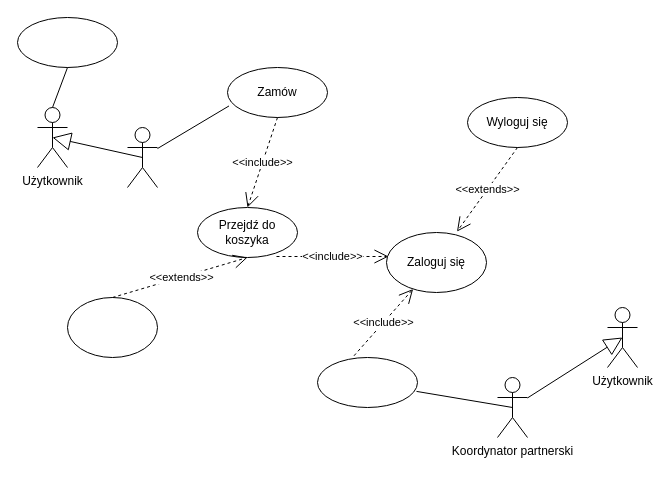
This 670x491 diagram has some shape labels left out. The shapes that lost their labels are listed below. From the top down, each one's centre as x and y in pixels, then its label:
the point at 67,42: Rejestruj się
the point at 142,157: Klient
the point at 112,327: Zarządzaj koszykiem
the point at 367,382: Zarządzaj produktami
